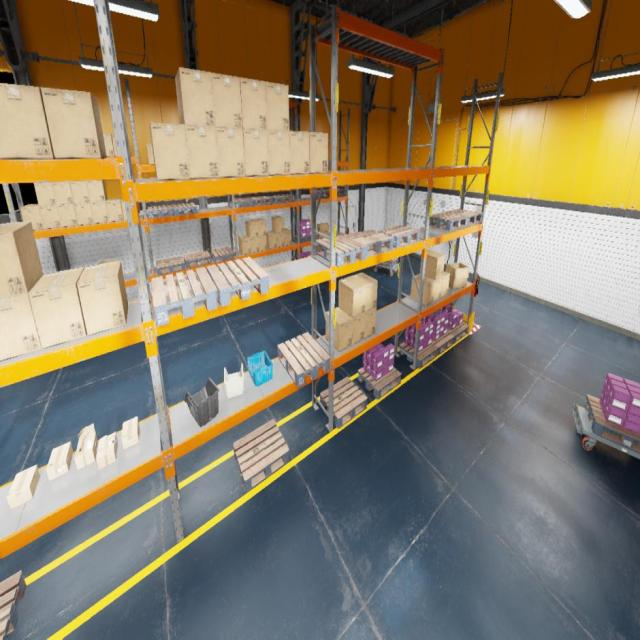box: (28, 268, 86, 348), (41, 87, 106, 158), (0, 83, 55, 158), (77, 260, 128, 336), (0, 221, 43, 299), (0, 293, 42, 361), (175, 68, 215, 128), (150, 122, 190, 180), (185, 125, 219, 178), (211, 72, 242, 128), (8, 464, 40, 510), (240, 77, 268, 129), (216, 127, 245, 177), (243, 128, 269, 176), (326, 307, 353, 351), (338, 276, 366, 318), (266, 81, 290, 130), (74, 424, 98, 471), (46, 441, 73, 481), (352, 272, 378, 312), (268, 130, 290, 175), (289, 130, 310, 173), (341, 309, 365, 345), (96, 432, 118, 470), (420, 249, 445, 280), (411, 274, 435, 306), (310, 132, 327, 173), (20, 204, 44, 230), (445, 263, 469, 288), (122, 416, 139, 449), (39, 205, 61, 229), (52, 181, 74, 205), (34, 182, 56, 206), (57, 205, 78, 228), (70, 180, 91, 203), (86, 180, 107, 202), (425, 276, 442, 302), (74, 203, 94, 225), (90, 202, 109, 224), (106, 198, 123, 222), (364, 308, 377, 338), (104, 134, 115, 156), (441, 272, 450, 298), (238, 236, 251, 254), (254, 218, 266, 237), (246, 219, 258, 238), (247, 235, 260, 252), (272, 216, 284, 233), (317, 222, 329, 238), (273, 231, 284, 247), (120, 198, 128, 220), (266, 232, 276, 249), (146, 144, 154, 164), (284, 228, 291, 245), (259, 236, 267, 250), (112, 134, 117, 156), (97, 260, 120, 264)
pallets: (233, 419, 290, 493), (152, 268, 218, 326), (585, 395, 640, 453), (206, 258, 269, 306), (277, 333, 330, 387), (320, 377, 367, 428), (0, 570, 26, 640), (317, 235, 367, 267), (358, 367, 401, 400), (344, 230, 393, 256), (399, 342, 438, 368), (378, 225, 419, 248), (444, 208, 482, 226), (429, 213, 468, 230), (430, 332, 454, 356), (156, 256, 185, 275), (446, 322, 469, 343), (184, 251, 212, 268), (210, 246, 234, 264), (148, 204, 174, 219), (172, 203, 198, 216), (249, 196, 274, 206), (231, 198, 254, 208), (270, 194, 293, 203), (378, 258, 397, 268), (325, 188, 346, 196), (294, 235, 317, 242), (310, 190, 329, 198)
